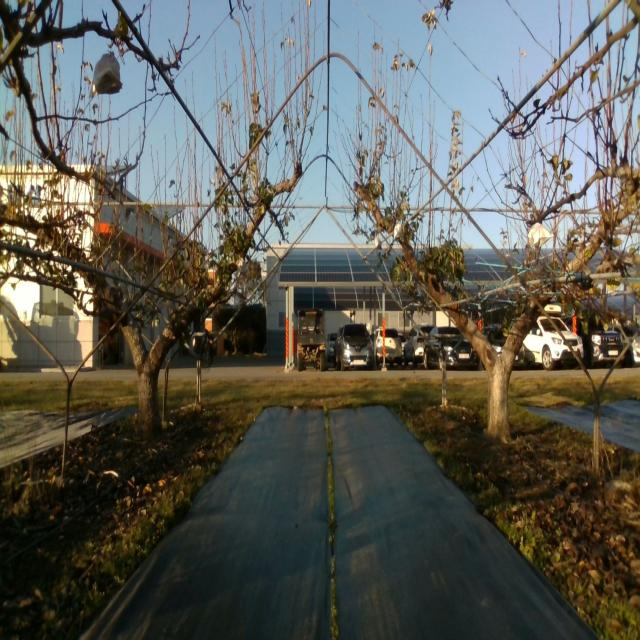pearbags: (88, 50, 122, 96), (526, 223, 554, 248)
